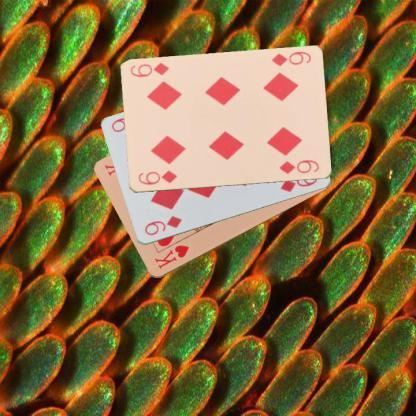6d: (268, 49, 312, 68), (135, 168, 178, 187)
9d: (142, 214, 184, 236)
Kh: (152, 242, 190, 271)
